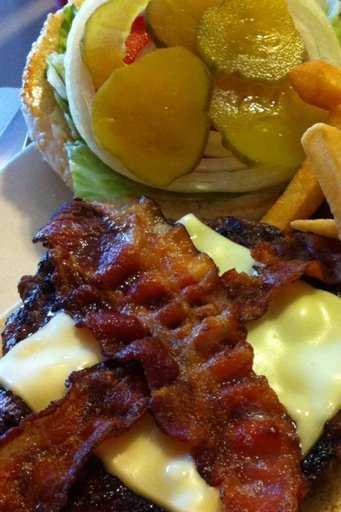hamburger: (22, 1, 341, 213)
